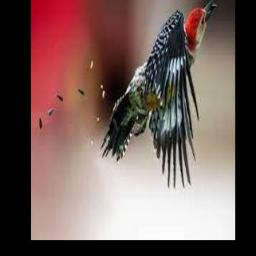Woodpecker: (101, 0, 218, 189)
